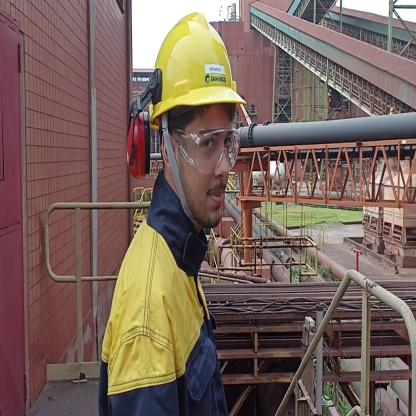C_eletrica: (95, 216, 230, 416)
Capacete: (145, 11, 244, 107)
